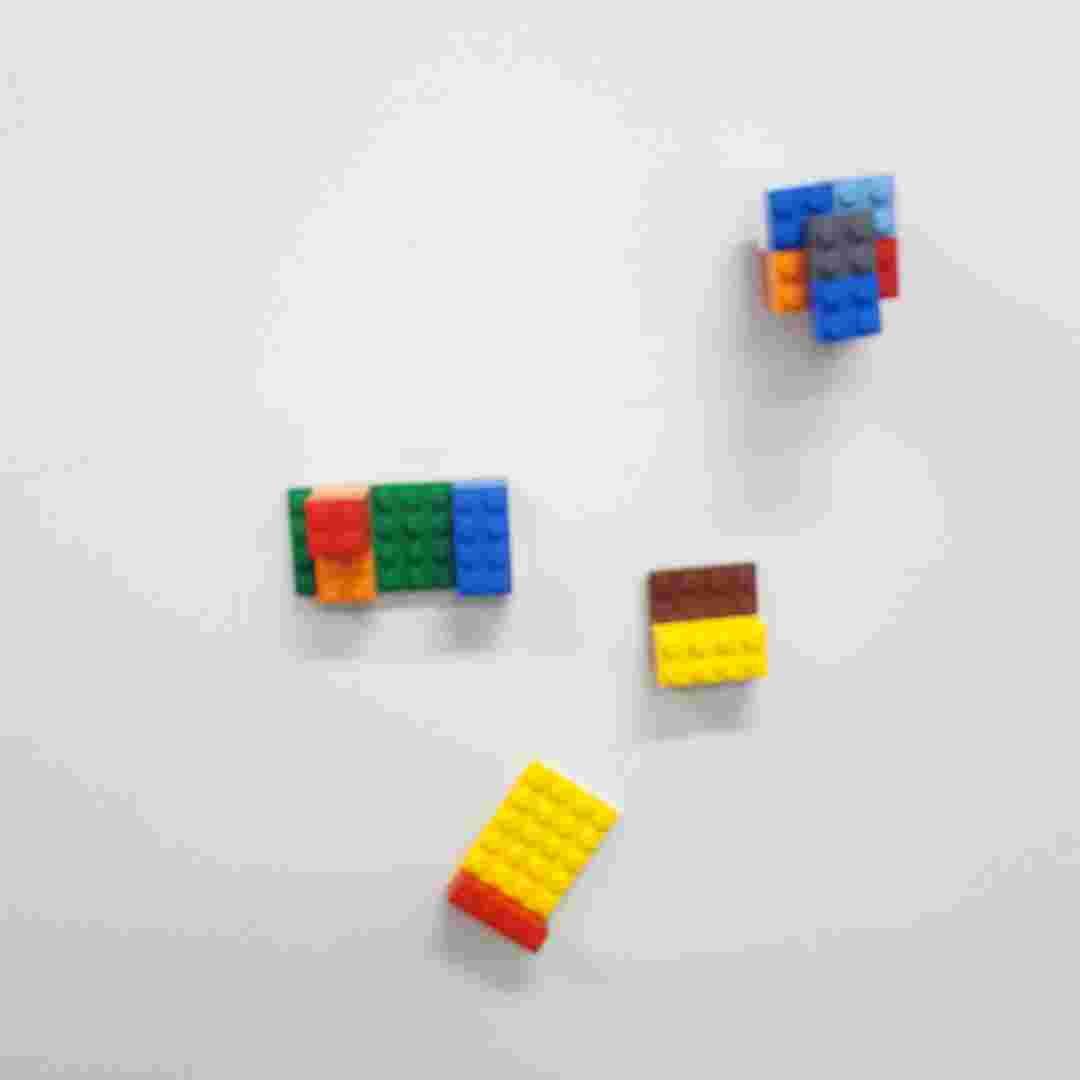LEGO: (438, 754, 636, 960), (282, 473, 520, 599), (756, 169, 905, 348), (639, 559, 776, 697)
